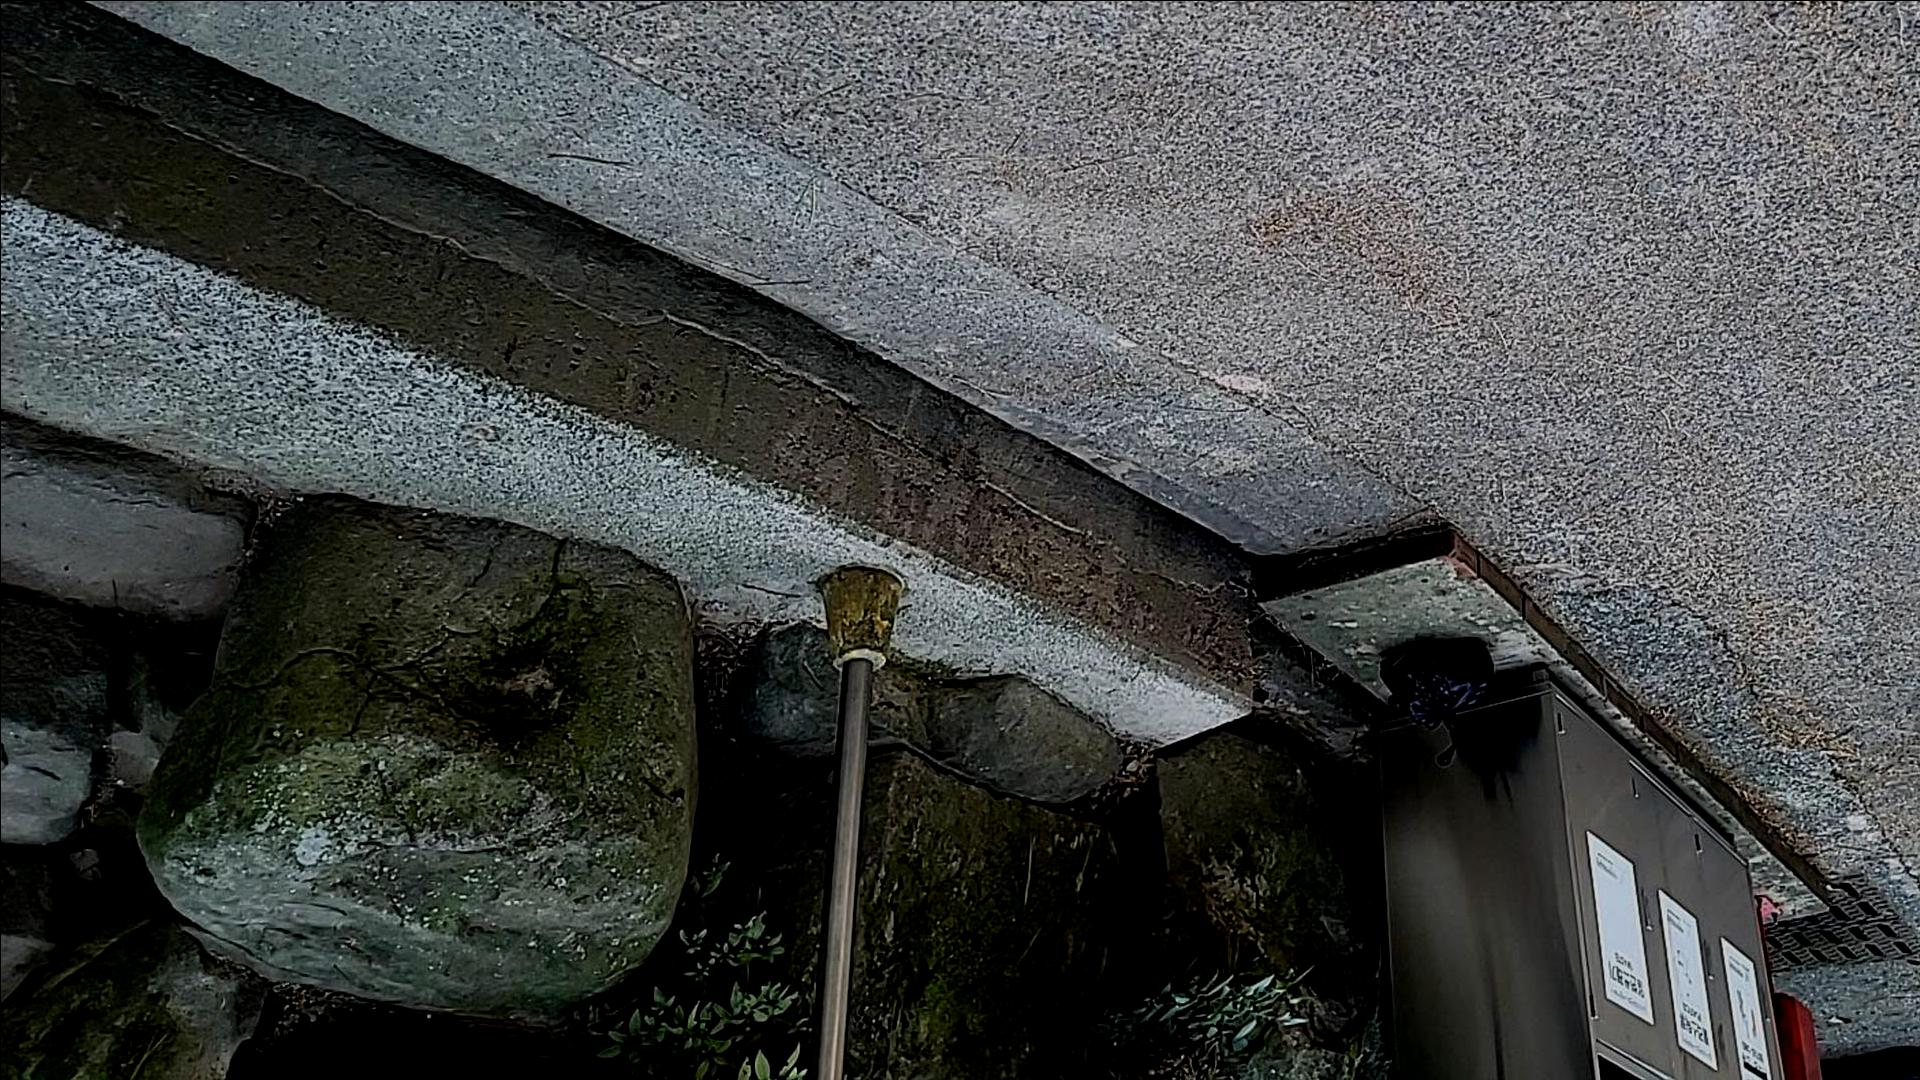black_bag: (1375, 632, 1501, 781)
